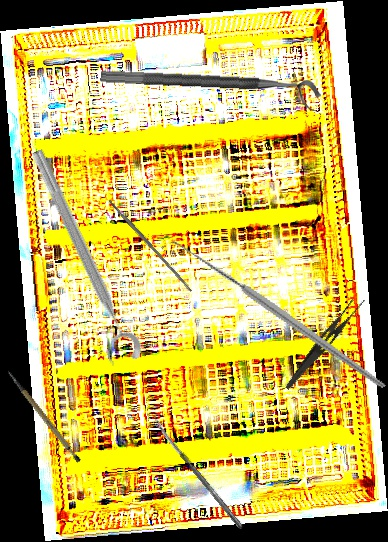Dressing Forceps: (284, 290, 367, 398)
Fixation Ring: (14, 145, 146, 371), (99, 69, 322, 112)
Hook Surgical: (161, 185, 386, 448)
Scalpel Handle: (6, 360, 83, 471), (107, 198, 194, 293)
Surgical Spoon: (152, 418, 245, 530)
